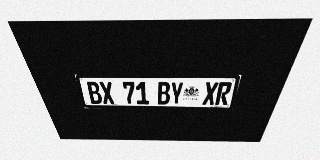1: (135, 82, 149, 104)
7: (121, 82, 137, 104)
B: (85, 82, 103, 104), (157, 82, 170, 104)
R: (215, 82, 233, 105)
X: (202, 82, 219, 105), (98, 82, 115, 104)
Y: (170, 82, 184, 105)
